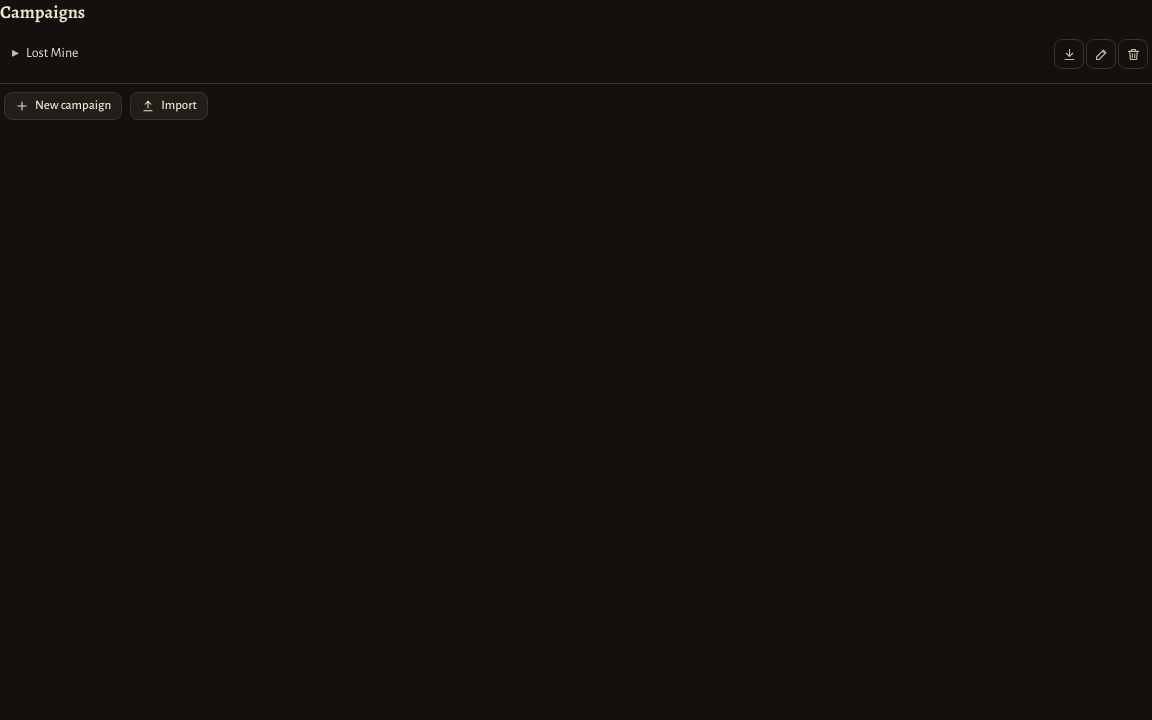
Test case: deletion with its confirmation (specs/03-domain-model.md §7, D-078) › cancels without deleting and returns focus to the item
This screenshot has width=1152, height=720.
Click the button named "Delete Lost Mine" at (1133, 54), box [1118,39,1148,69]
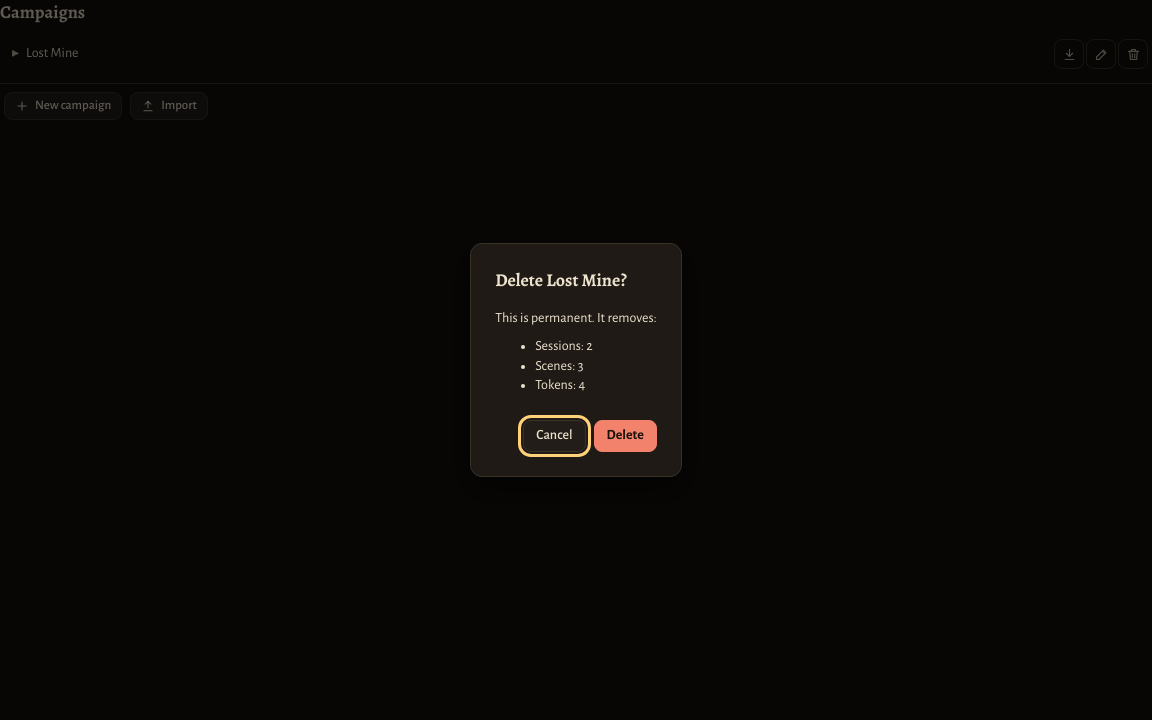
Click the button "Cancel" at (554, 436), box [523,420,586,452]
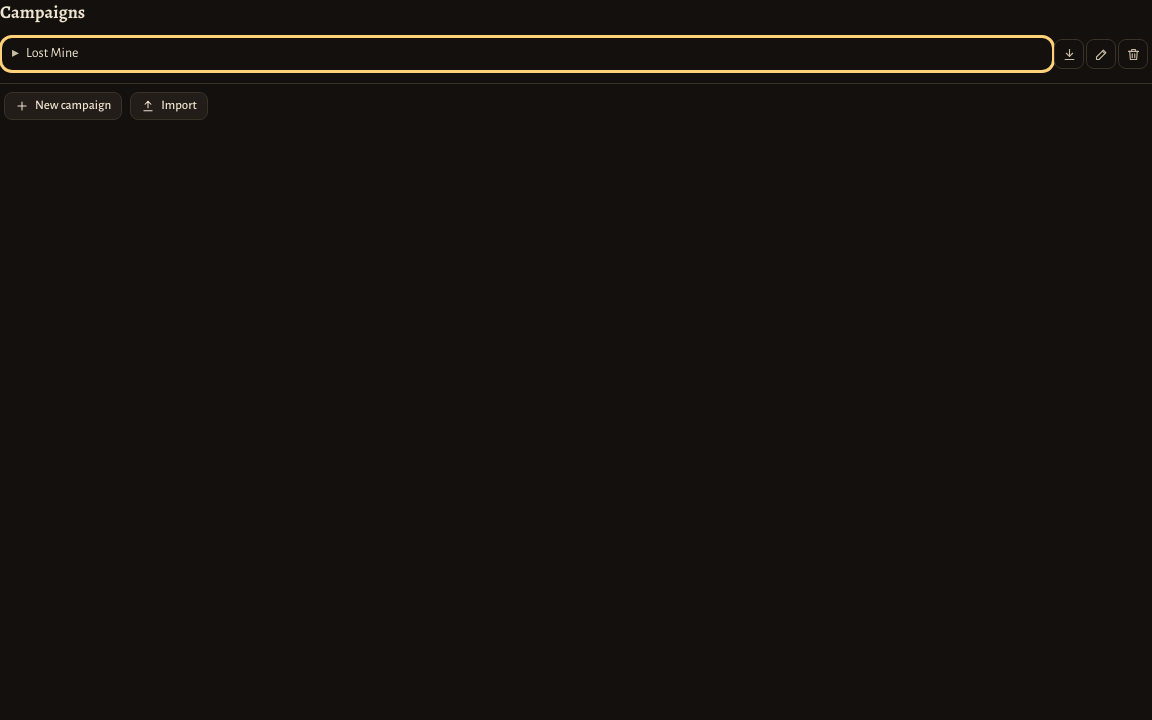
Now the dialog is gone
